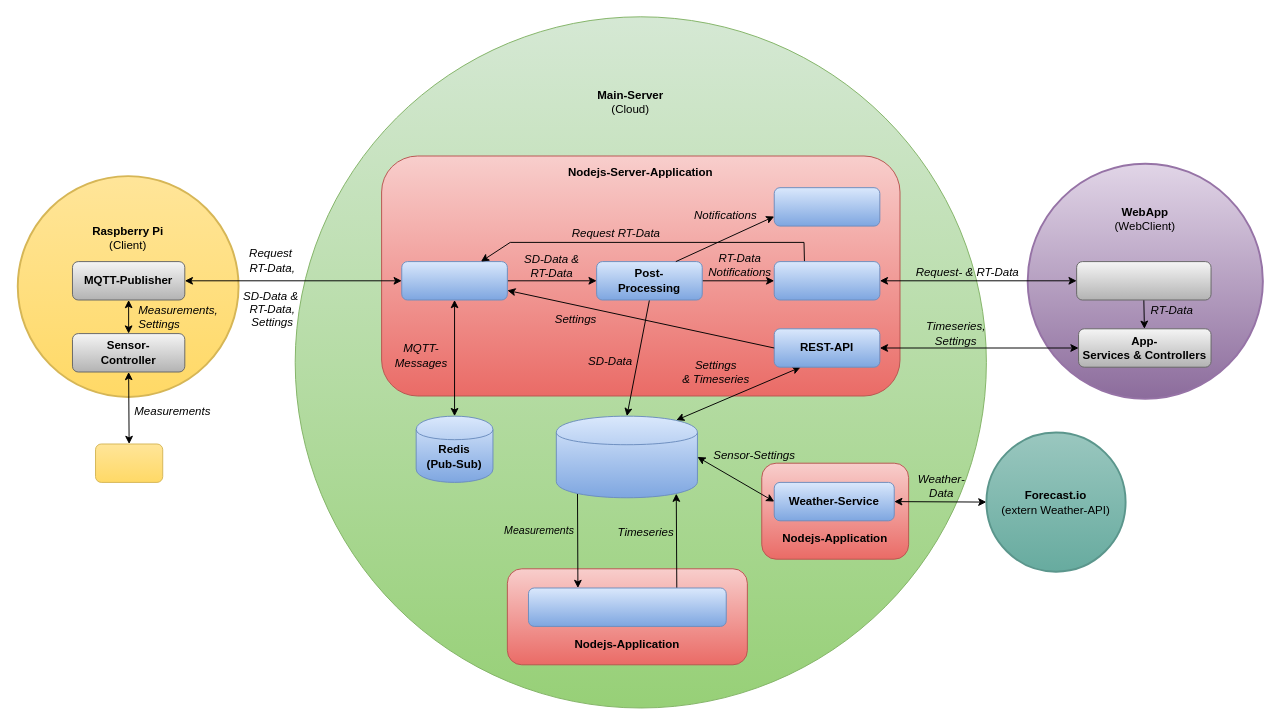
Image size: 1280x725. Some labels were removed from this diagram. The shapes that lost their labels are listed below. From the top down, each one's centre as x and y in pixels, then its label:
At point 826,206: "Email- Server".
At point 454,280: "MQTT-Broker".
At point 826,280: "Websocket- Server".
At point 1143,280: "Websocket-Service".
At point 129,462: "Sensor".
At point 626,456: "PostgreSQL (PostGIS Extension)".
At point 627,606: "Timeseries- Creator".
